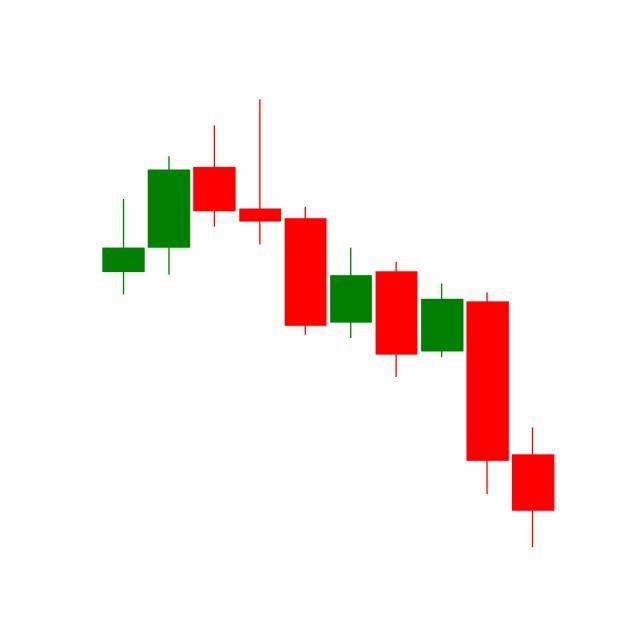Hikkake Pattern: (283, 204, 512, 498)
